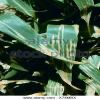Corn leaf blight: (1, 13, 84, 64), (47, 22, 81, 91)
